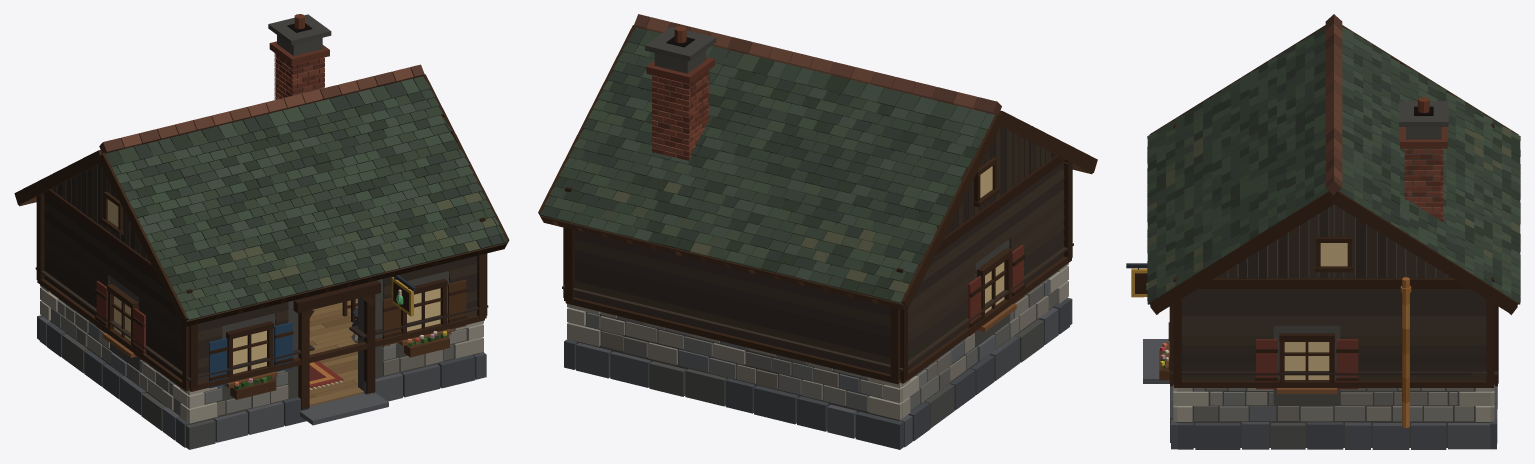
The model's file is still.glb.
3 views of the same model, side by side, from view 1: azimuth 30°, elevation 25°; view 2: azimuth 150°, elevation 25°; view 3: azimuth 270°, elevation 25° (orthographic). The views are drawn at different scales.
Visible parts, largest first — view 1: still_shell, still_interior, still_glass, still_cap; view 2: still_shell, still_cap, still_glass; view 3: still_shell, still_glass, still_cap.
Boxes of the visible parts, <box> form: still_shell: <box>14,14,509,449</box>; still_interior: <box>309,298,363,406</box>; still_glass: <box>107,199,440,373</box>; still_cap: <box>35,267,488,380</box>; still_shell: <box>538,14,1097,449</box>; still_cap: <box>562,243,1073,371</box>; still_glass: <box>980,166,1004,313</box>; still_shell: <box>1126,14,1520,449</box>; still_glass: <box>1284,243,1347,379</box>; still_cap: <box>1170,370,1497,375</box>.
Bounding box in the file's own units: 8.94 × 7.72 × 8.78.
